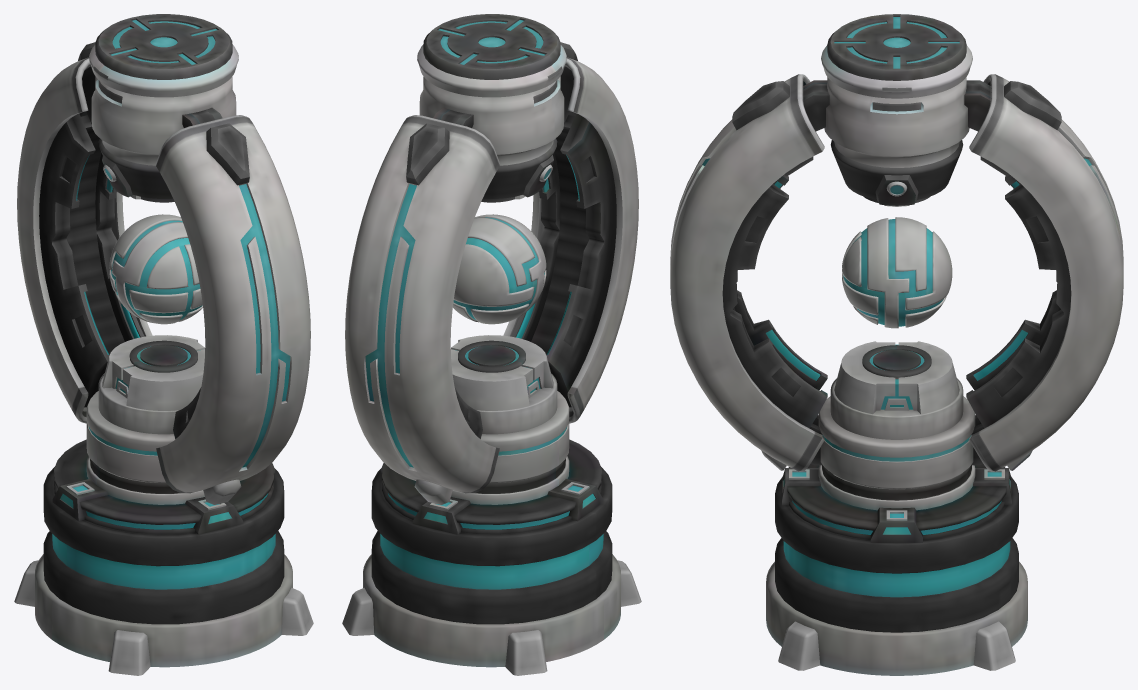
The model's file is SK_GeneratorAncient_45cb2a.glb.
3 views of the same model, side by side, from view 1: azimuth 30°, elevation 25°; view 2: azimuth 150°, elevation 25°; view 3: azimuth 270°, elevation 25° (orthographic).
Size of the model in its own units: 1.5 by 3.66 by 2.6.
1 material, 1 textured.
